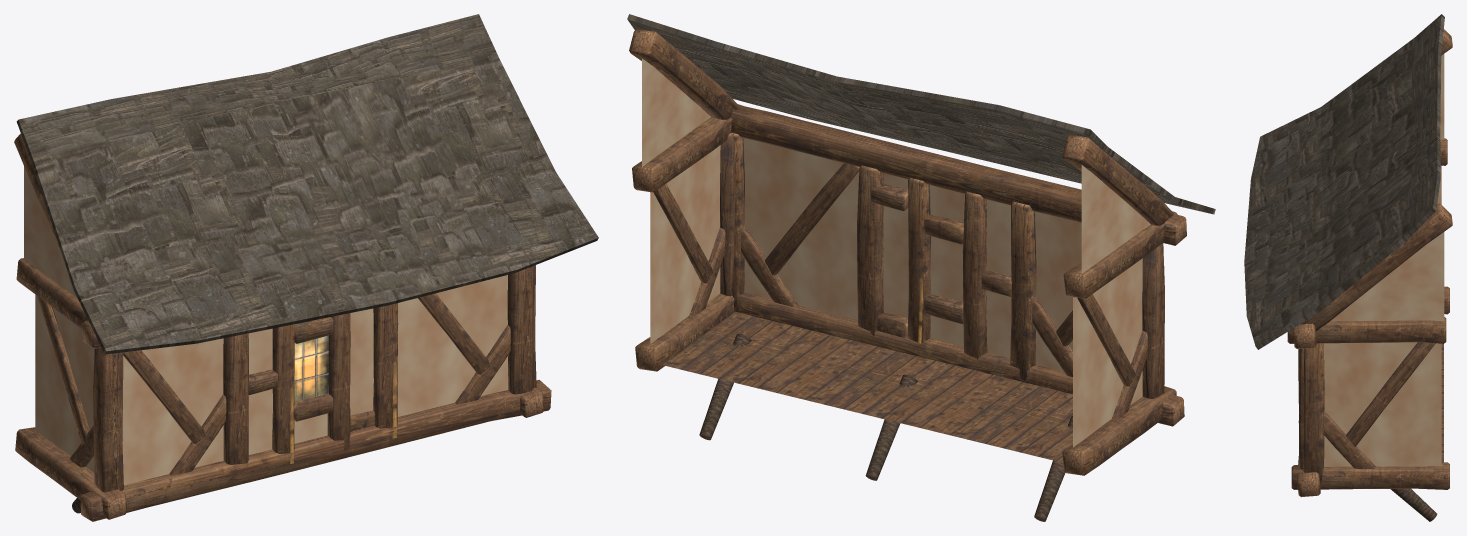
File: Outbuilding 2.fbx
The picture shows the model from 3 angles, left to right: view 1: azimuth 30°, elevation 25°; view 2: azimuth 150°, elevation 25°; view 3: azimuth 270°, elevation 25°; orthographic projection. The views are drawn at different scales.
Parts seen in each view (by area): view 1: 2 Outbuilding; view 2: 2 Outbuilding; view 3: 2 Outbuilding.
Part boxes in pixels (bbox=[...]): 2 Outbuilding: bbox=[14, 14, 598, 521]; 2 Outbuilding: bbox=[627, 14, 1215, 521]; 2 Outbuilding: bbox=[1244, 14, 1452, 521].
Size of the model in its own units: 7.16 by 5.61 by 3.05.
